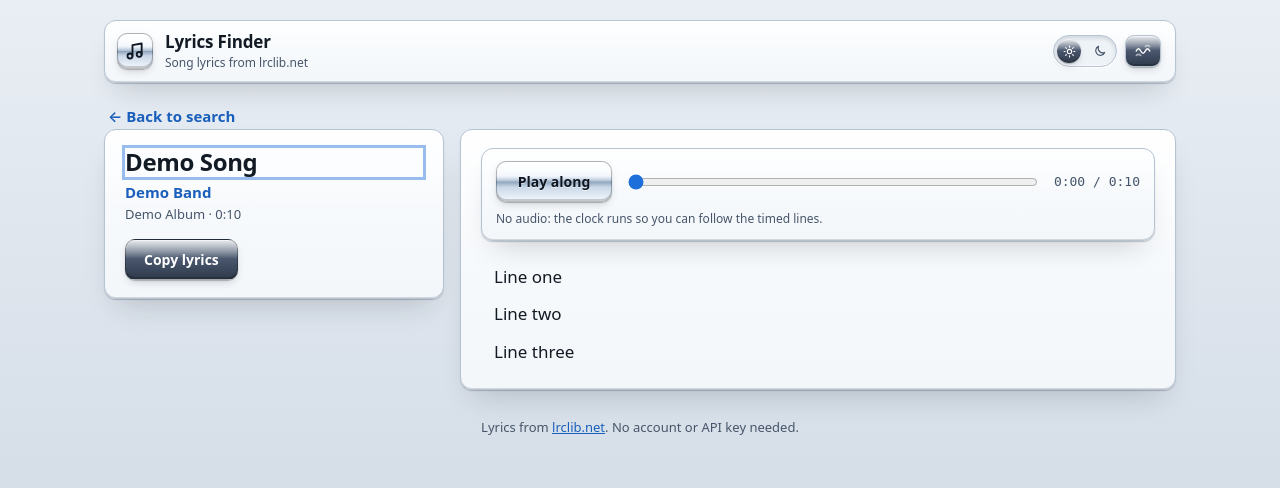
Test: synced lyrics › highlights the current line while the clock runs and pauses
Expected: the list named "Timed lyrics" is shown, [494,265,574,363]
Click the button "Play along" at (554, 182), box [496,161,612,202]
Wait 3200 ms
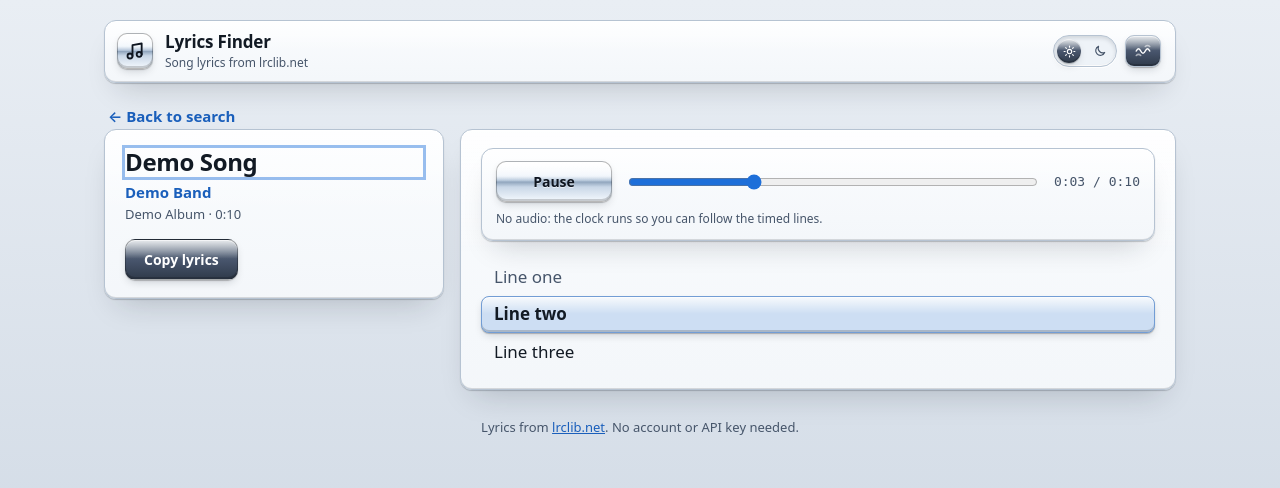
Expected: the list item "Line one" is shown, [494,265,562,288]
Expected: the list item "Line two" is shown, [481,296,1155,333]
Click the button "Pause" at (554, 182), box [496,161,612,202]
Wait 5000 ms
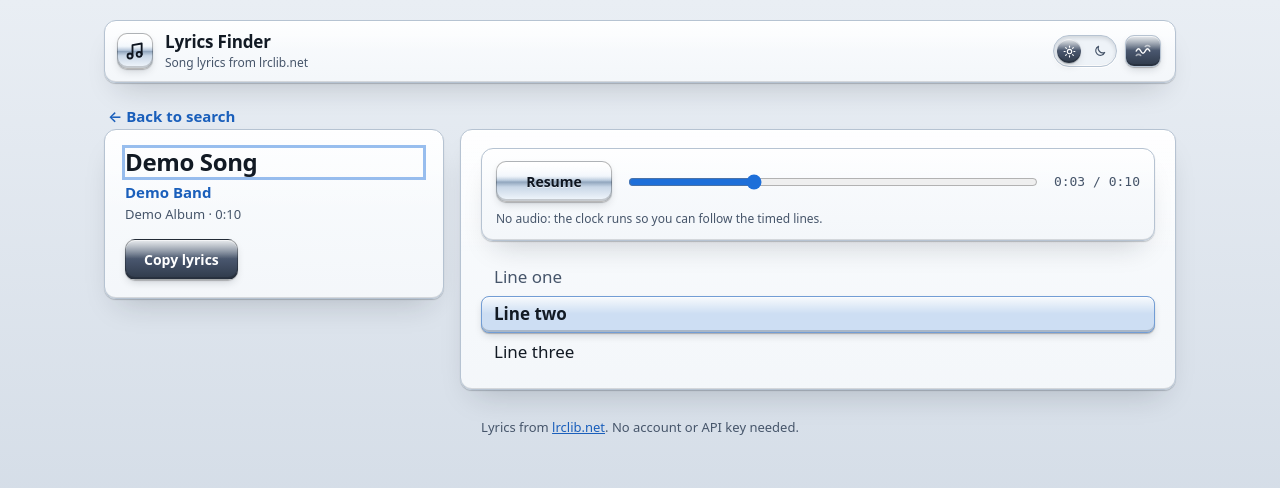
Expected: the list item "Line two" is shown, [481,296,1155,333]
Now the button "Resume" is shown, box [496,161,612,202]
